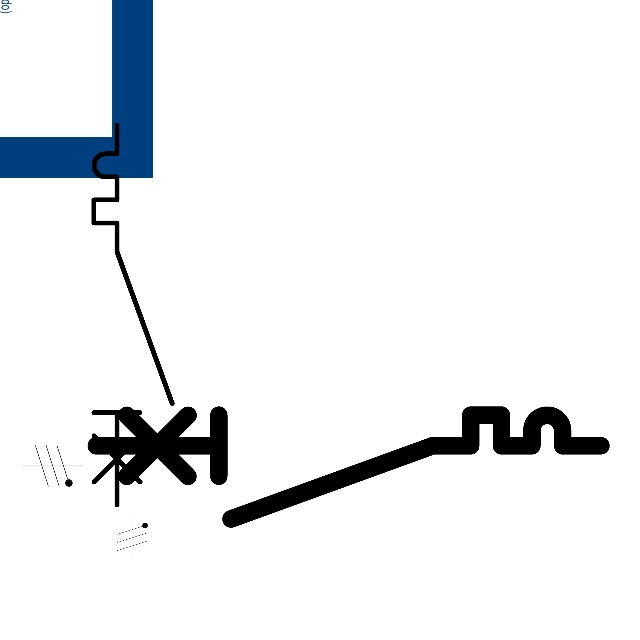interruptor_termomagnetico: (83, 402, 614, 532), (84, 115, 182, 515)
